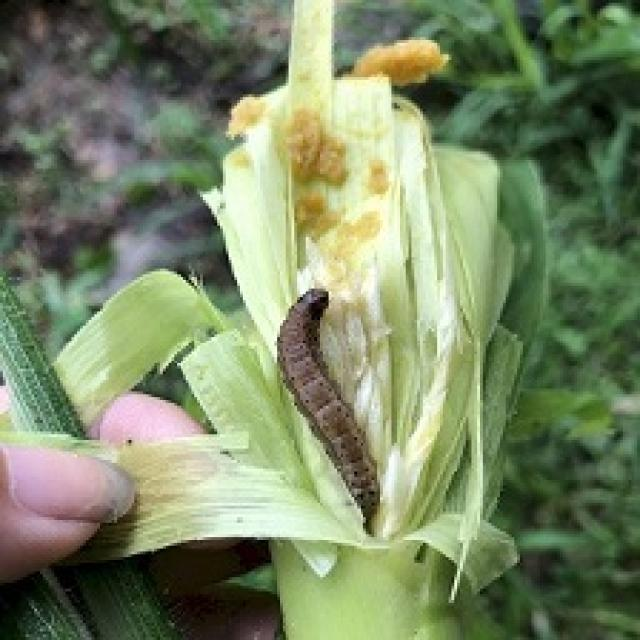worm: (272, 287, 381, 527)
